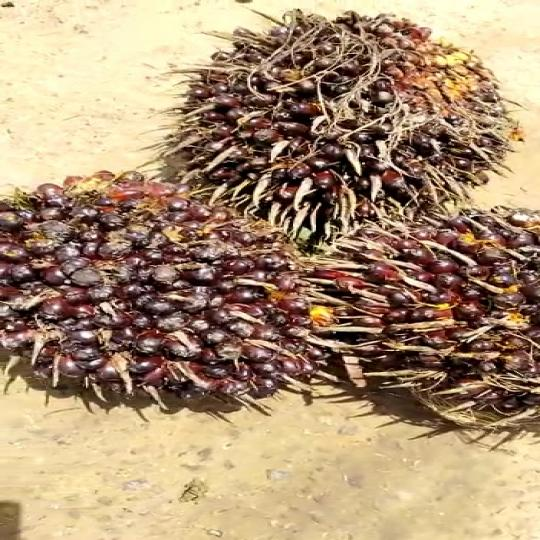kurang masak: (0, 168, 336, 419), (173, 0, 528, 228), (297, 197, 540, 446)
